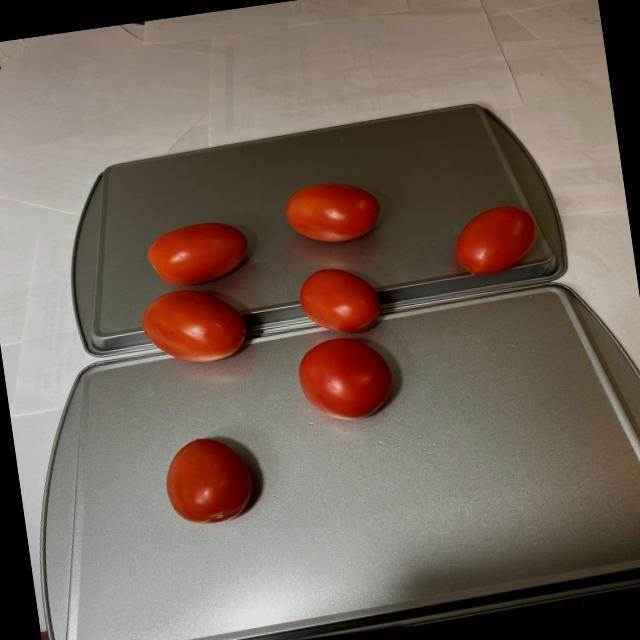tomato: (125, 154, 576, 533)
